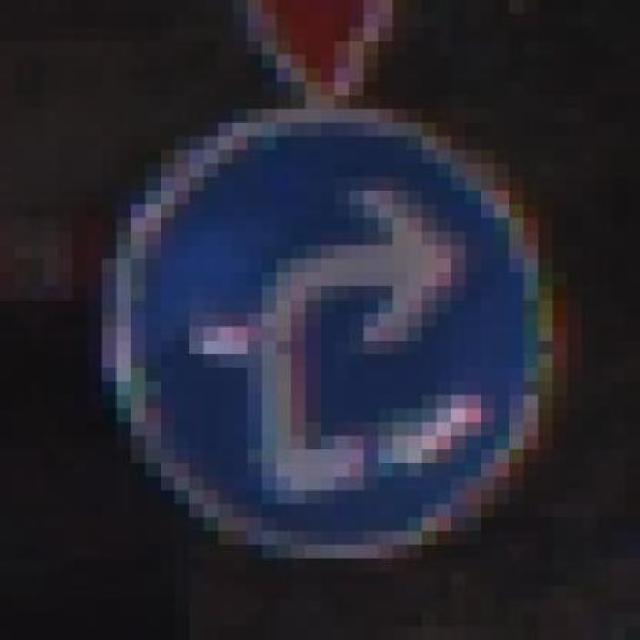Turn right ahead: (116, 82, 582, 586)
